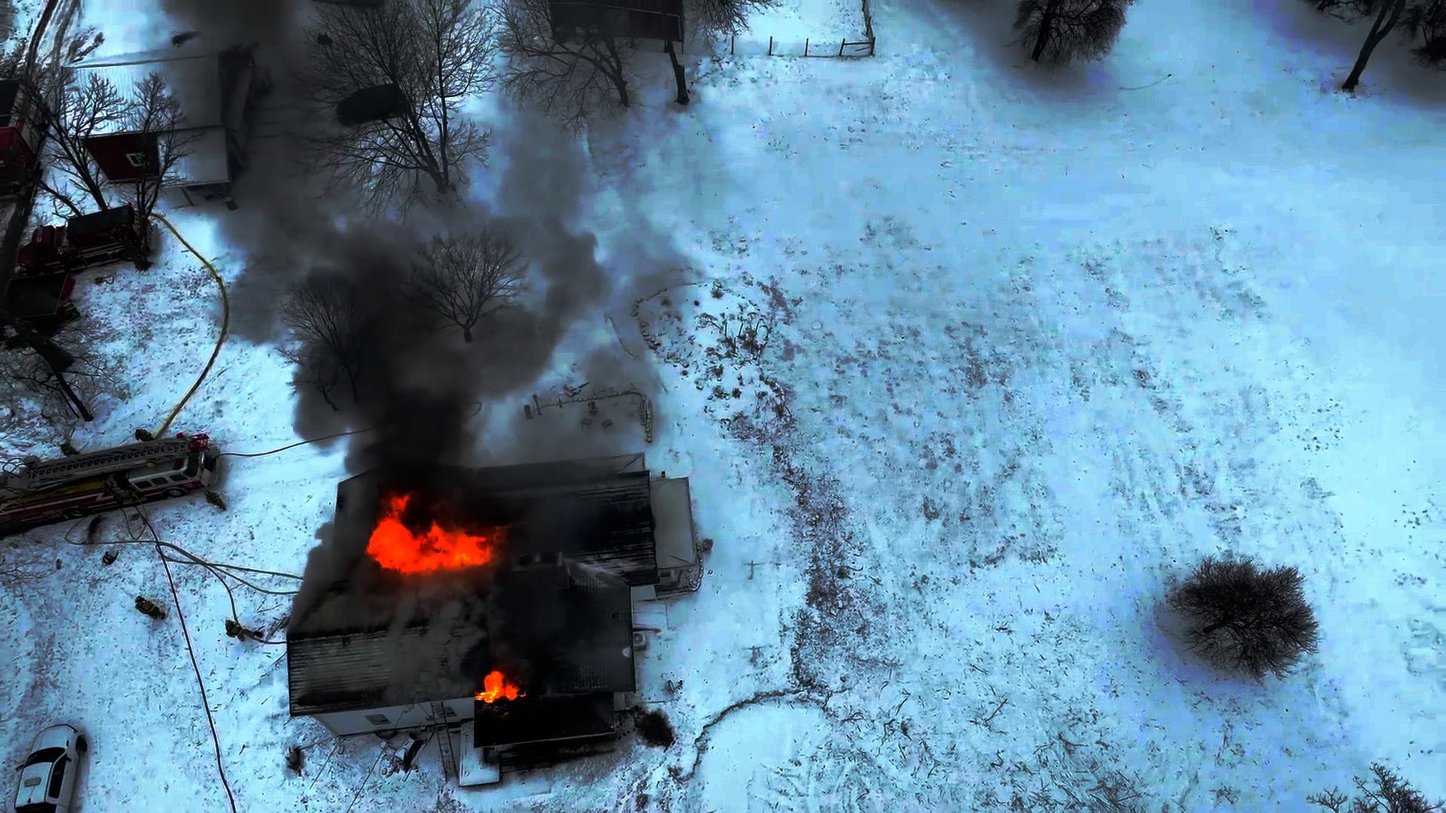fire: (377, 490, 501, 572), (475, 657, 523, 708)
smoke: (354, 301, 483, 448)
